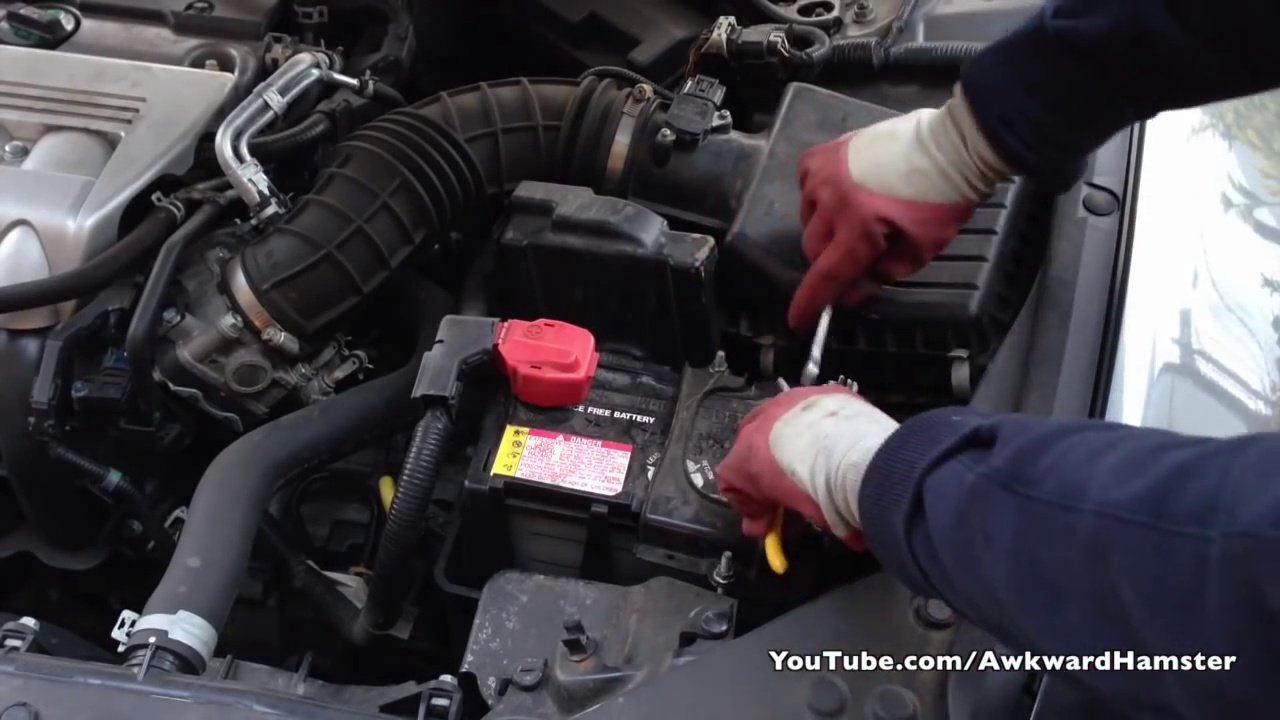battery: (452, 350, 759, 548)
pos_connected: (423, 287, 604, 414)
